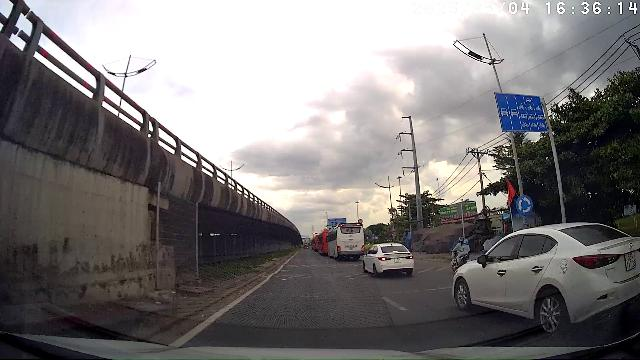303-noi-giao-nhau-chay-theo-vong-xuyen: (515, 195, 533, 216)
